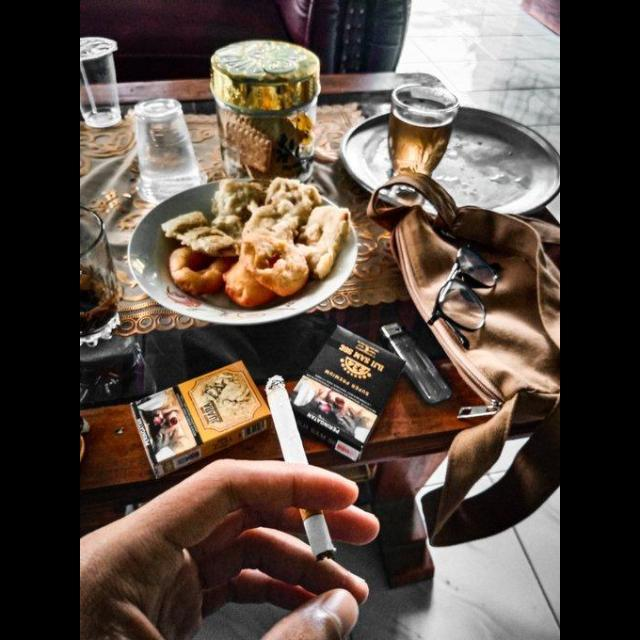rokok: (262, 371, 346, 561)
